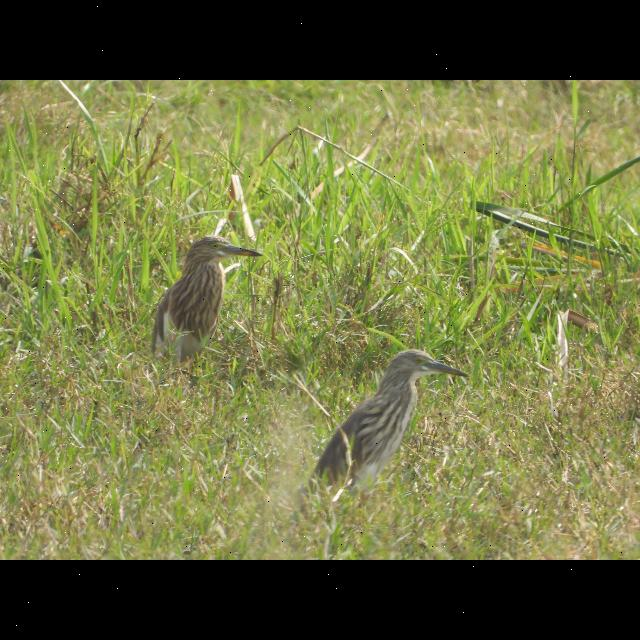heron: (313, 342, 472, 493), (146, 232, 262, 366)
